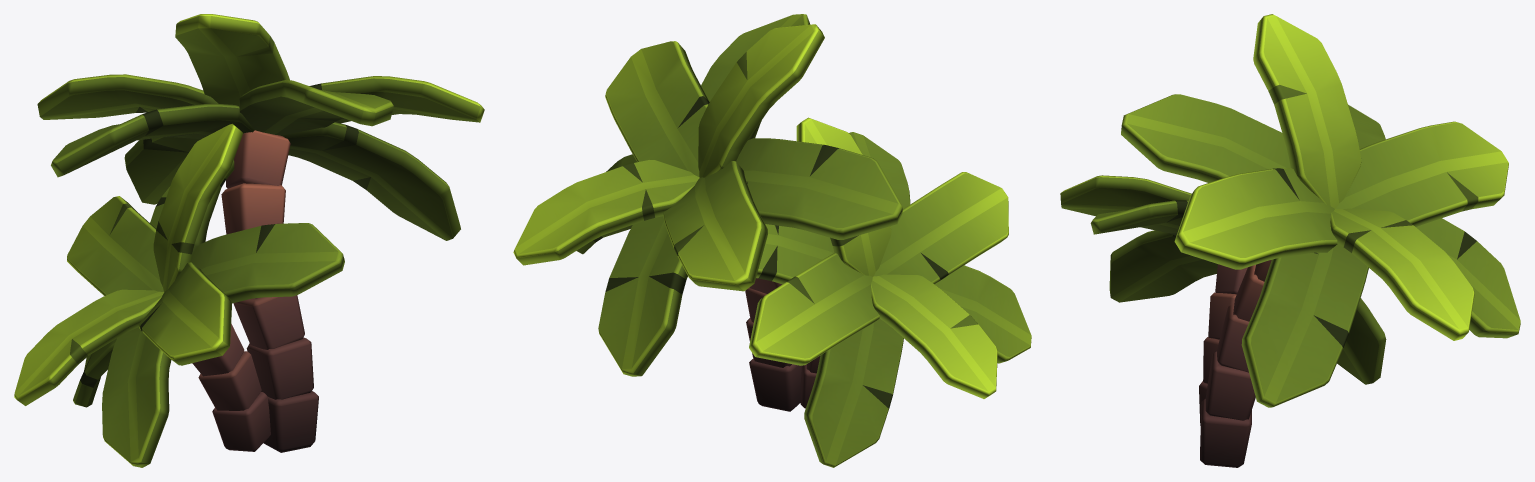
The model's file is palm_tree_6.fbx.
3 views of the same model, side by side, from view 1: azimuth 30°, elevation 25°; view 2: azimuth 150°, elevation 25°; view 3: azimuth 270°, elevation 25° (orthographic). The views are drawn at different scales.
Parts seen in each view (by area): view 1: palm_tree_6; view 2: palm_tree_6; view 3: palm_tree_6.
Part boxes in pixels (x1=…): palm_tree_6: x1=14, y1=14, x2=484, y2=467; palm_tree_6: x1=513, y1=14, x2=1031, y2=467; palm_tree_6: x1=1060, y1=14, x2=1520, y2=467.
Size of the model in its own units: 601 by 559 by 556.
